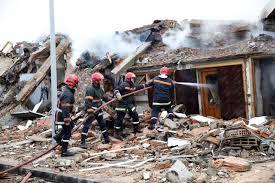smoke: (17, 4, 123, 54), (160, 2, 263, 32)
